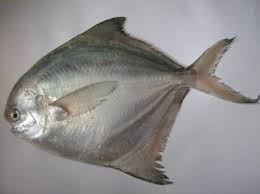Ikan Bawal: (4, 10, 257, 184)
